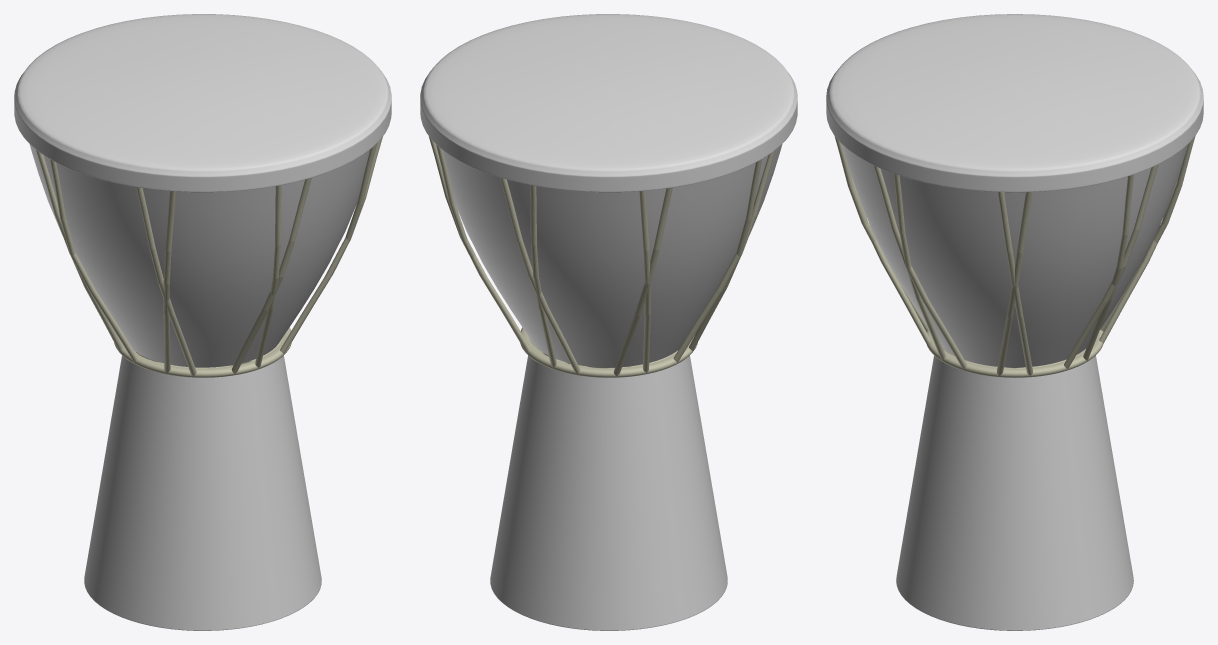
Rendered from Tambor.fbx.
The picture shows the model from 3 angles, left to right: view 1: azimuth 30°, elevation 25°; view 2: azimuth 150°, elevation 25°; view 3: azimuth 270°, elevation 25°; orthographic projection.
Parts seen in each view (by area): view 1: Cylinder, Cylinder.002; view 2: Cylinder, Cylinder.002; view 3: Cylinder, Cylinder.002.
Boxes of the visible parts, bbox=[...] form: Cylinder: bbox=[14, 14, 391, 630]; Cylinder.002: bbox=[36, 136, 382, 375]; Cylinder: bbox=[420, 14, 797, 630]; Cylinder.002: bbox=[428, 136, 775, 375]; Cylinder: bbox=[826, 14, 1203, 630]; Cylinder.002: bbox=[834, 136, 1195, 375].
Size of the model in its own units: 2.01 by 2.01 by 2.92.
